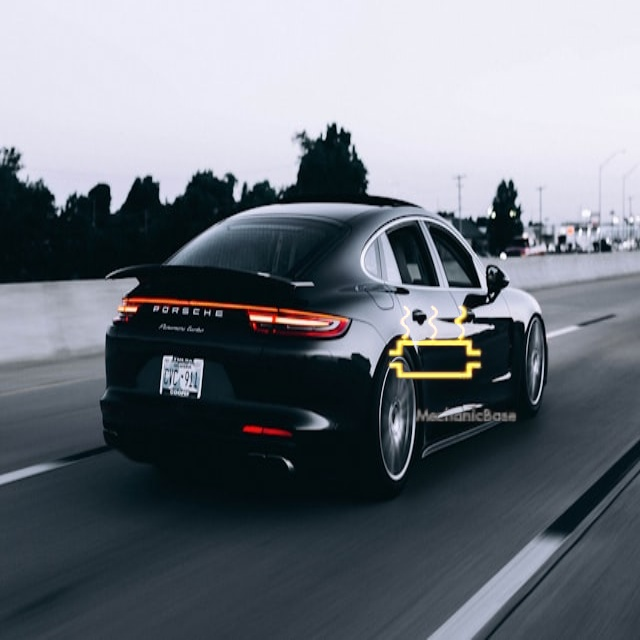symbol: (347, 254, 523, 430)
